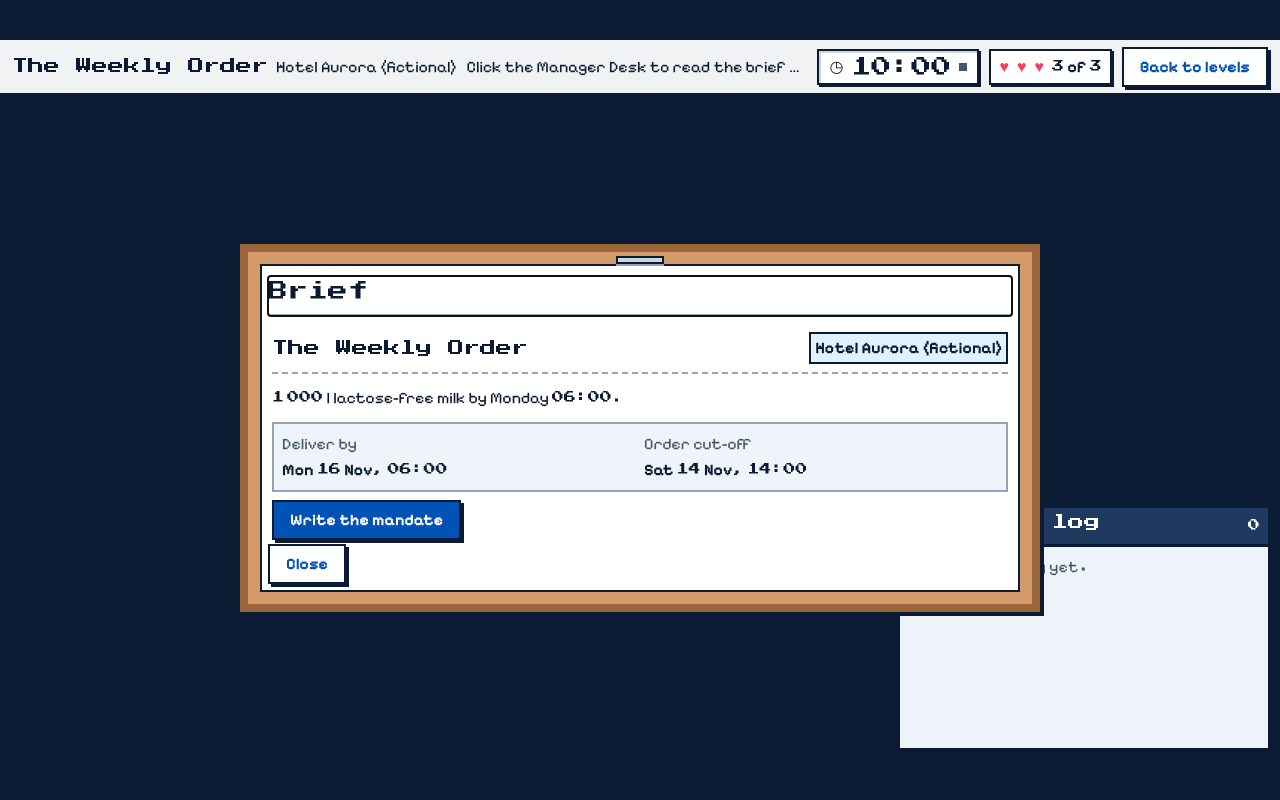
Scenario: KitchenScreen replay integration › level1 / loose reveals mock steps at director marks
Earlier steps of the test are not shown.
Click the button "Write the mandate" at (367, 520), box [272, 500, 461, 540]
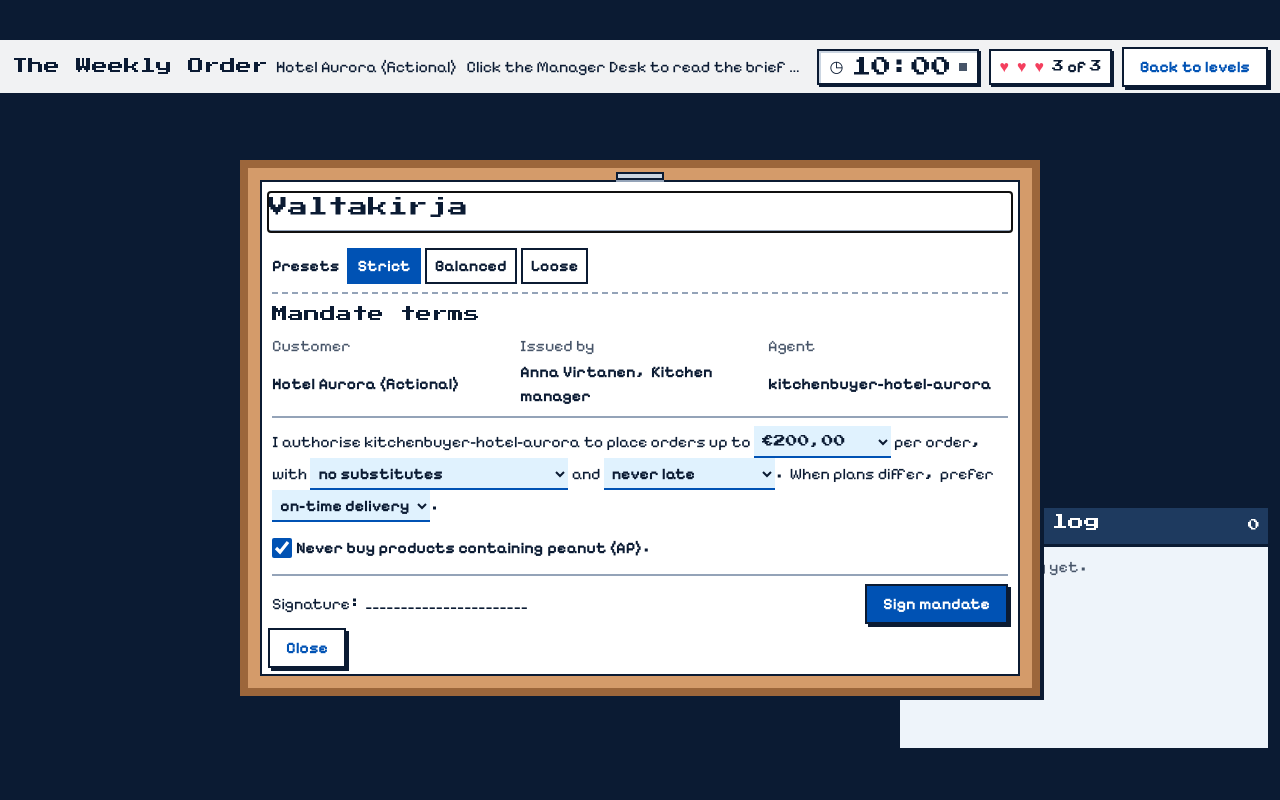
Click the button "Loose" at (554, 266), box [521, 248, 588, 284]
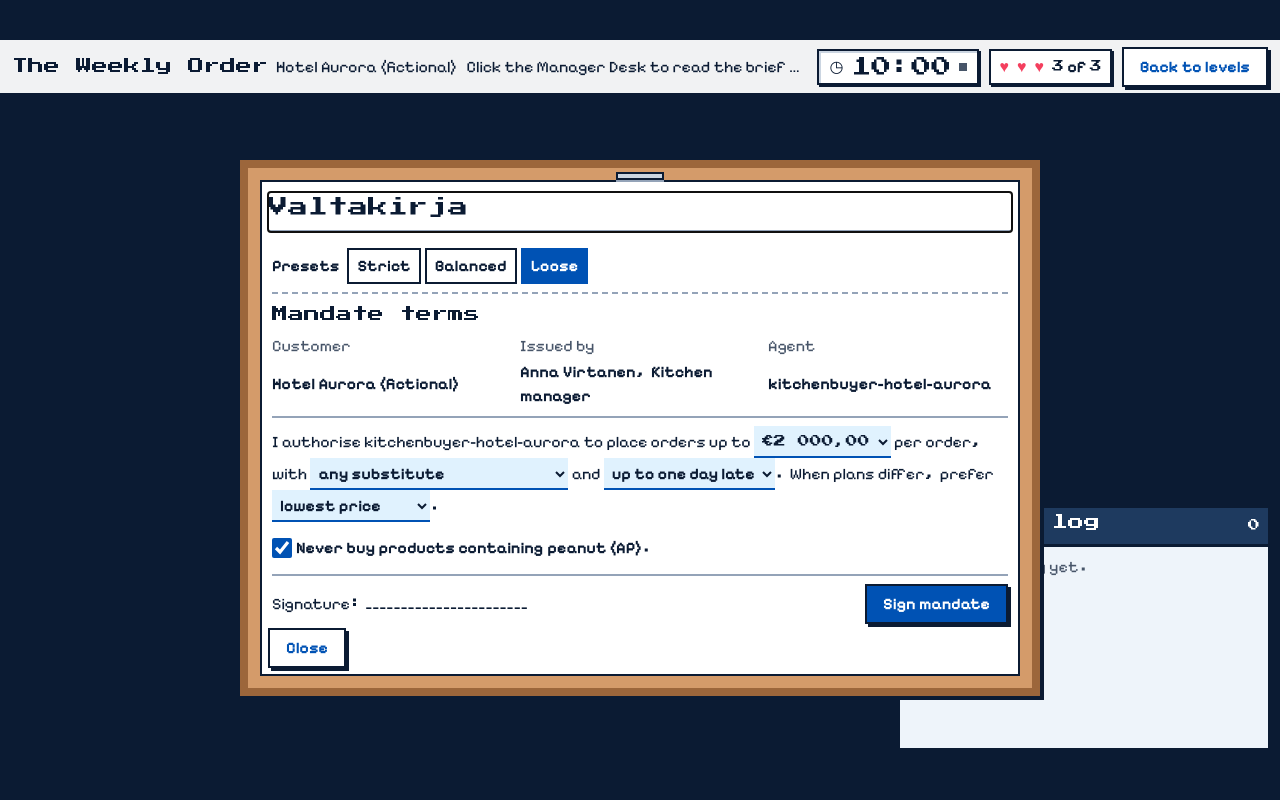
Click the button "Sign mandate" at (937, 604), box [865, 584, 1008, 624]
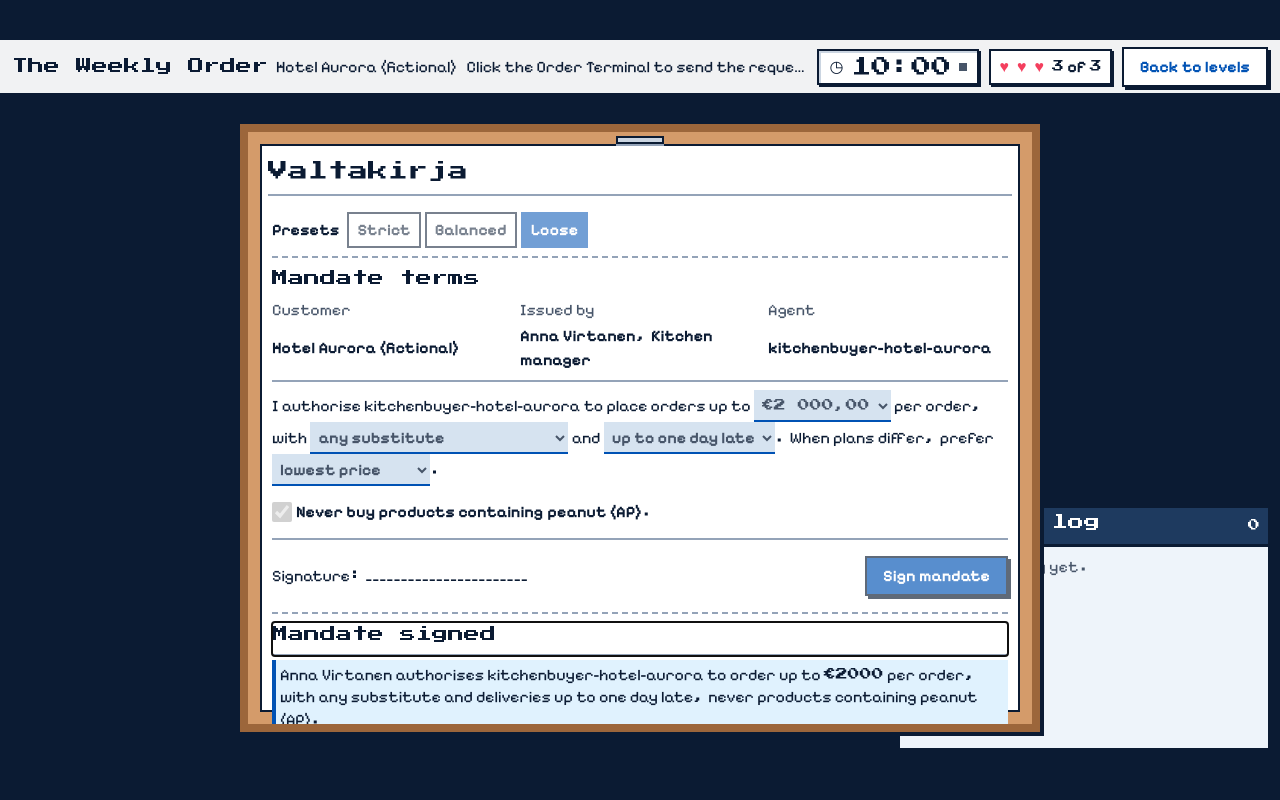
Expected: the text "Anna Virtanen authorises kitchenbuyer-hotel-aurora to order up to €2000 per order, with any substitute and deliveries up" is shown, [280, 665, 978, 729]
Press Escape
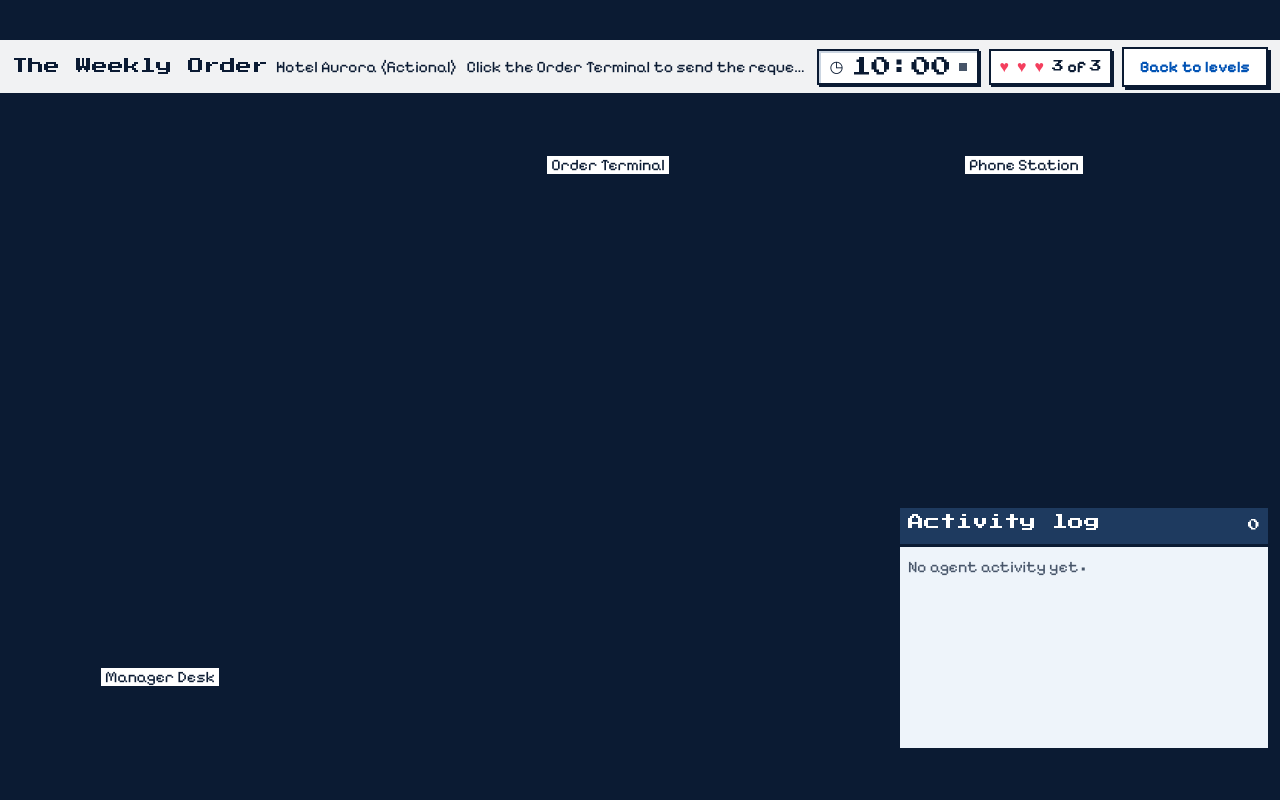
Click the button "Order Terminal" at (608, 144), box [512, 112, 704, 176]
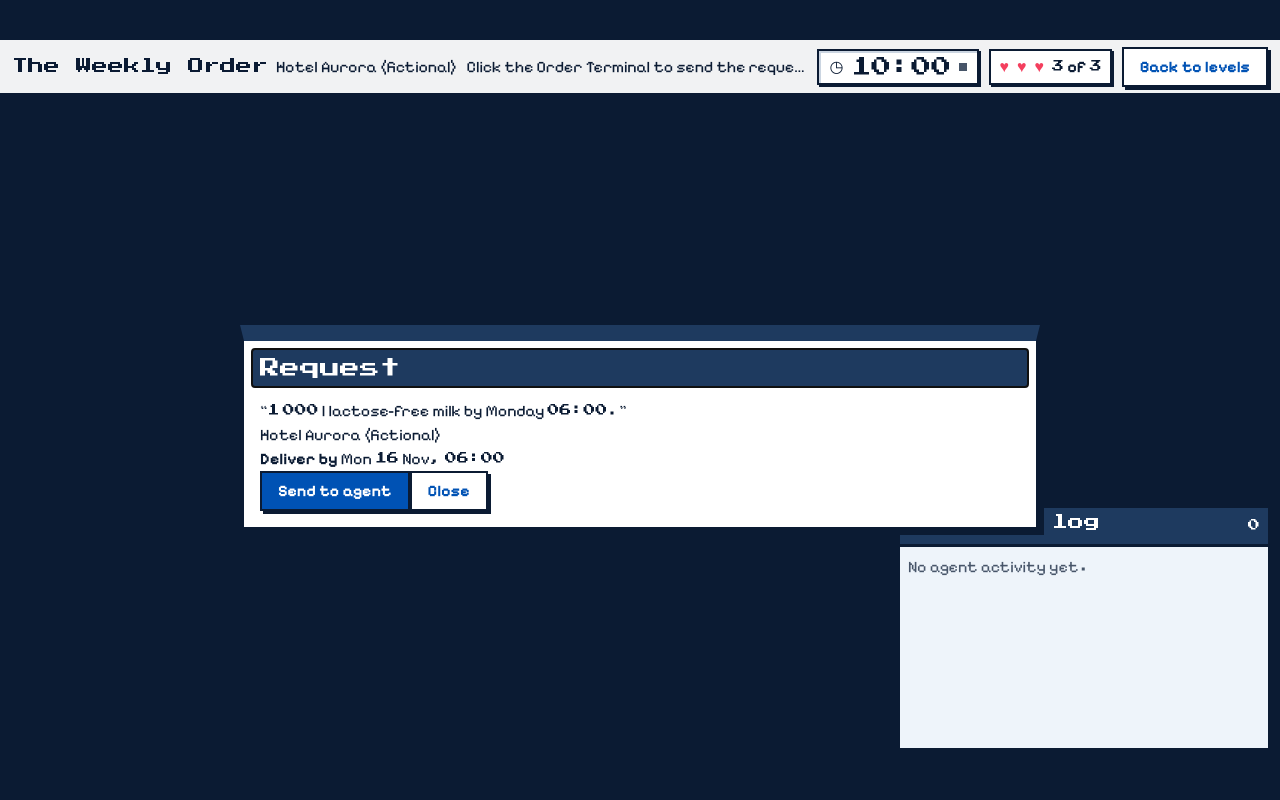
Expected: the element named "Game clock" shows "10:00", [851, 56, 951, 76]
Expected: the element named "Activity log" reads "No agent activity yet.", [908, 557, 1091, 576]
Click the button "Send to agent" at (335, 491), box [260, 471, 410, 511]
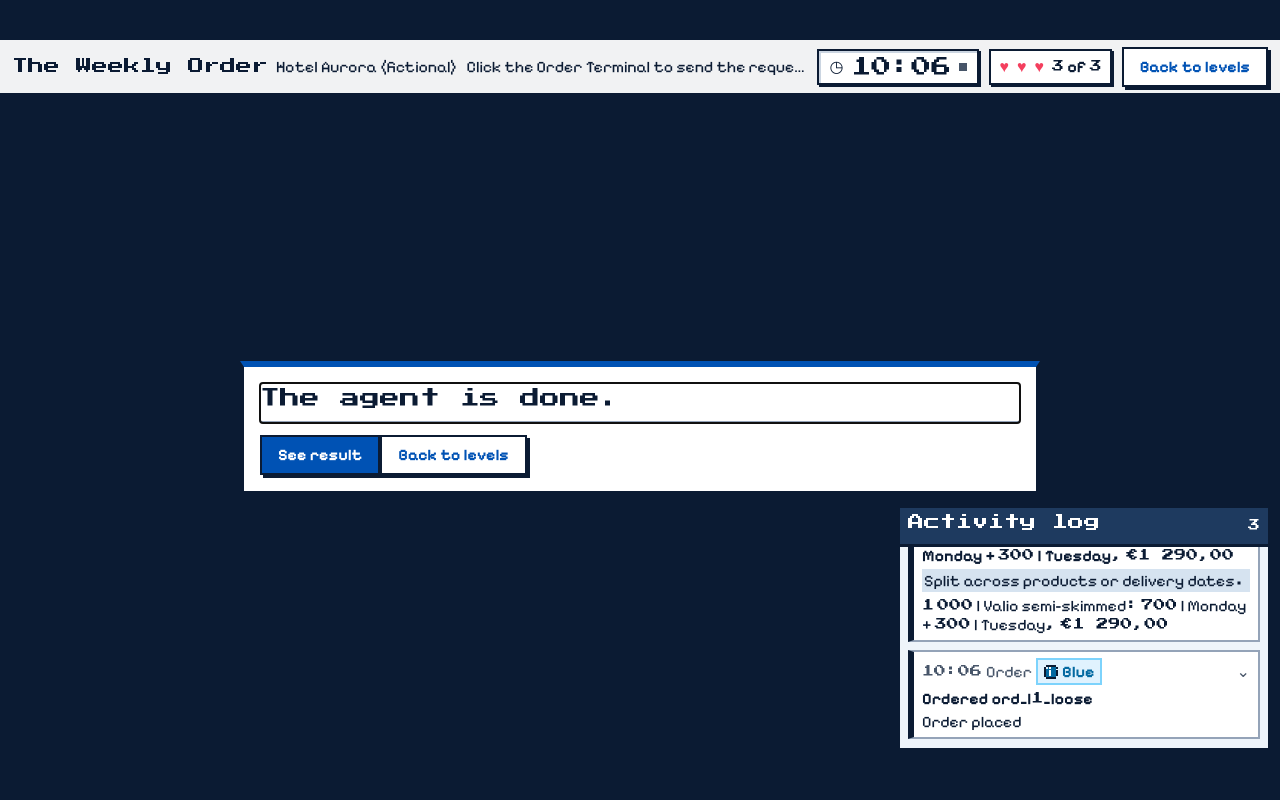
Expected: the dialog "The agent is done." is shown, [240, 361, 1040, 495]
Expected: the text "Game clock" no longer shows "10:00"
